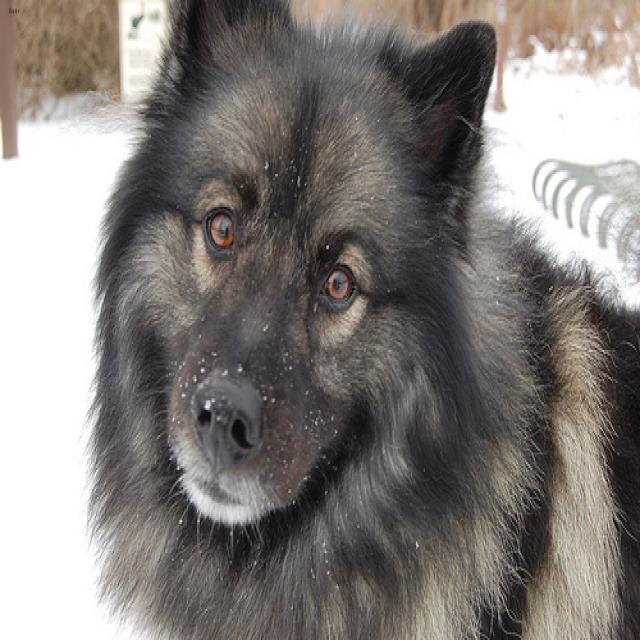dog-keeshond: (84, 2, 637, 636)
